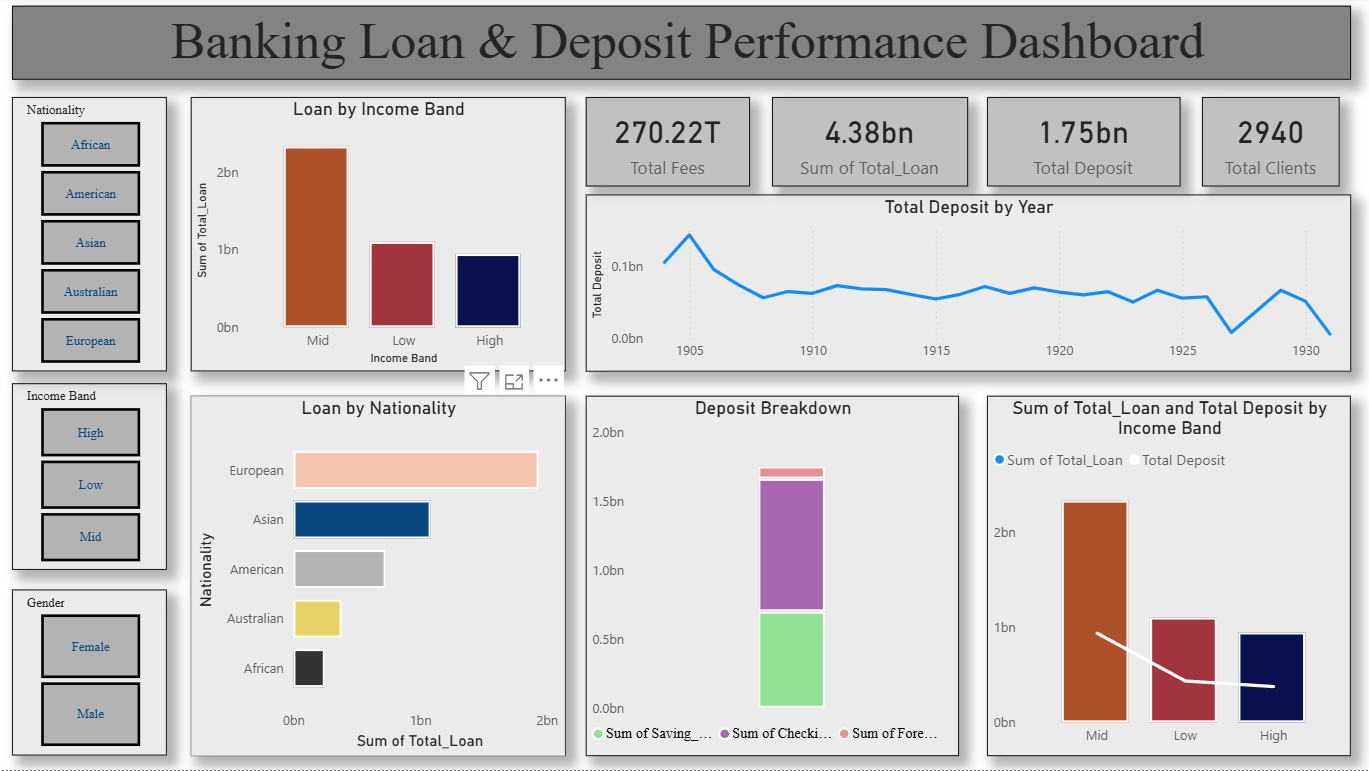

The page's visual inventory and layout, read from the dashboard file:
{"tool":"powerbi","page":{"name":"Banking_Risk_Analytics","canvas":[1280,720],"ordinal":0},"visuals":[{"type":"card","fields":{"Values":["banking_clean.Total Clients"]},"box":[1121.3,92.9,128.4,83.2],"z":0},{"type":"card","fields":{"Values":["banking_clean.Total Deposit"]},"box":[920.8,92.9,179.8,83.2],"z":1000},{"type":"card","fields":{"Values":["banking_clean.Total Fees"]},"box":[547.8,92.9,152.9,83.2],"z":2000},{"type":"card","fields":{"Values":["Sum(banking_clean.Total_Loan)"]},"box":[721.5,92.9,182.2,83.2],"z":3000},{"type":"columnChart","title":"Loan by Income Band","fields":{"Category":["banking_clean.Income Band"],"Y":["Sum(banking_clean.Total_Loan)"]},"box":[179.8,92.9,348.5,255.6],"z":4000},{"type":"slicer","fields":{"Values":["banking_clean.Gender"]},"box":[13.5,551.5,144.3,154.1],"z":5000},{"type":"slicer","fields":{"Values":["banking_clean.Income Band"]},"box":[13.5,359.5,144.3,173.6],"z":6000},{"type":"clusteredBarChart","title":"Loan by Nationality","fields":{"Category":["banking_clean.Nationality"],"Y":["Sum(banking_clean.Total_Loan)"]},"box":[179.8,370.5,348.5,335.1],"z":7000},{"type":"columnChart","title":"Deposit Breakdown","fields":{"Y":["Sum(banking_clean.Saving_Accounts)","Sum(banking_clean.Checking_Accounts)","Sum(banking_clean.Foreign_Currency_Account)"]},"box":[547.8,370.5,347.3,335.1],"z":8000},{"type":"lineChart","fields":{"Category":["banking_clean.Engagement Days.Variation.Date Hierarchy.Year","banking_clean.Engagement Days.Variation.Date Hierarchy.Quarter","banking_clean.Engagement Days.Variation.Date Hierarchy.Month","banking_clean.Engagement Days.Variation.Date Hierarchy.Day"],"Y":["banking_clean.Total Deposit"]},"box":[547.8,183.4,711.7,165.1],"z":9000},{"type":"slicer","fields":{"Values":["banking_clean.Nationality"]},"box":[13.5,92.9,144.3,255.6],"z":10000},{"type":"textbox","box":[14,8.1,1245.4,68.6],"z":11000},{"type":"lineClusteredColumnComboChart","fields":{"Category":["banking_clean.Income Band"],"Y":["Sum(banking_clean.Total_Loan)"],"Y2":["banking_clean.Total Deposit"]},"box":[920.8,370.5,338.7,335.1],"z":12000}]}

Visuals, with their boxes in screenshot pixels (x1, y1, x2, y2), scaled from the page's 1280x720 canvas onto the 1369x771 screenshot:
card - banking_clean.Total Clients: [1199,99,1337,189]
card - banking_clean.Total Deposit: [985,99,1177,189]
card - banking_clean.Total Fees: [586,99,749,189]
card - Sum(banking_clean.Total_Loan): [772,99,967,189]
"Loan by Income Band" columnChart: [192,99,565,373]
slicer - banking_clean.Gender: [14,591,169,756]
slicer - banking_clean.Income Band: [14,385,169,571]
"Loan by Nationality" clusteredBarChart: [192,397,565,756]
"Deposit Breakdown" columnChart: [586,397,957,756]
lineChart - banking_clean.Engagement Days.Variation.Date Hierarchy.Year x banking_clean.Engagement Days.Variation.Date Hierarchy.Quarter: [586,196,1347,373]
slicer - banking_clean.Nationality: [14,99,169,373]
textbox: [15,9,1347,82]
lineClusteredColumnComboChart - banking_clean.Income Band x Sum(banking_clean.Total_Loan): [985,397,1347,756]
